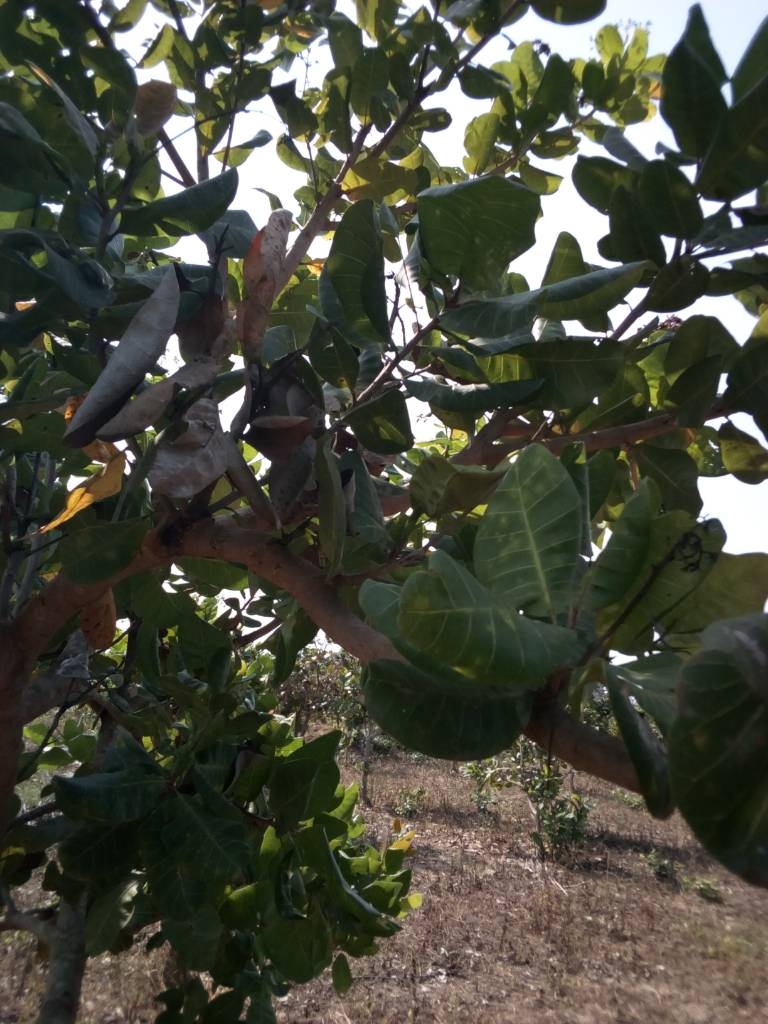Dessèchement des bourgeons: (641, 511, 723, 681)
